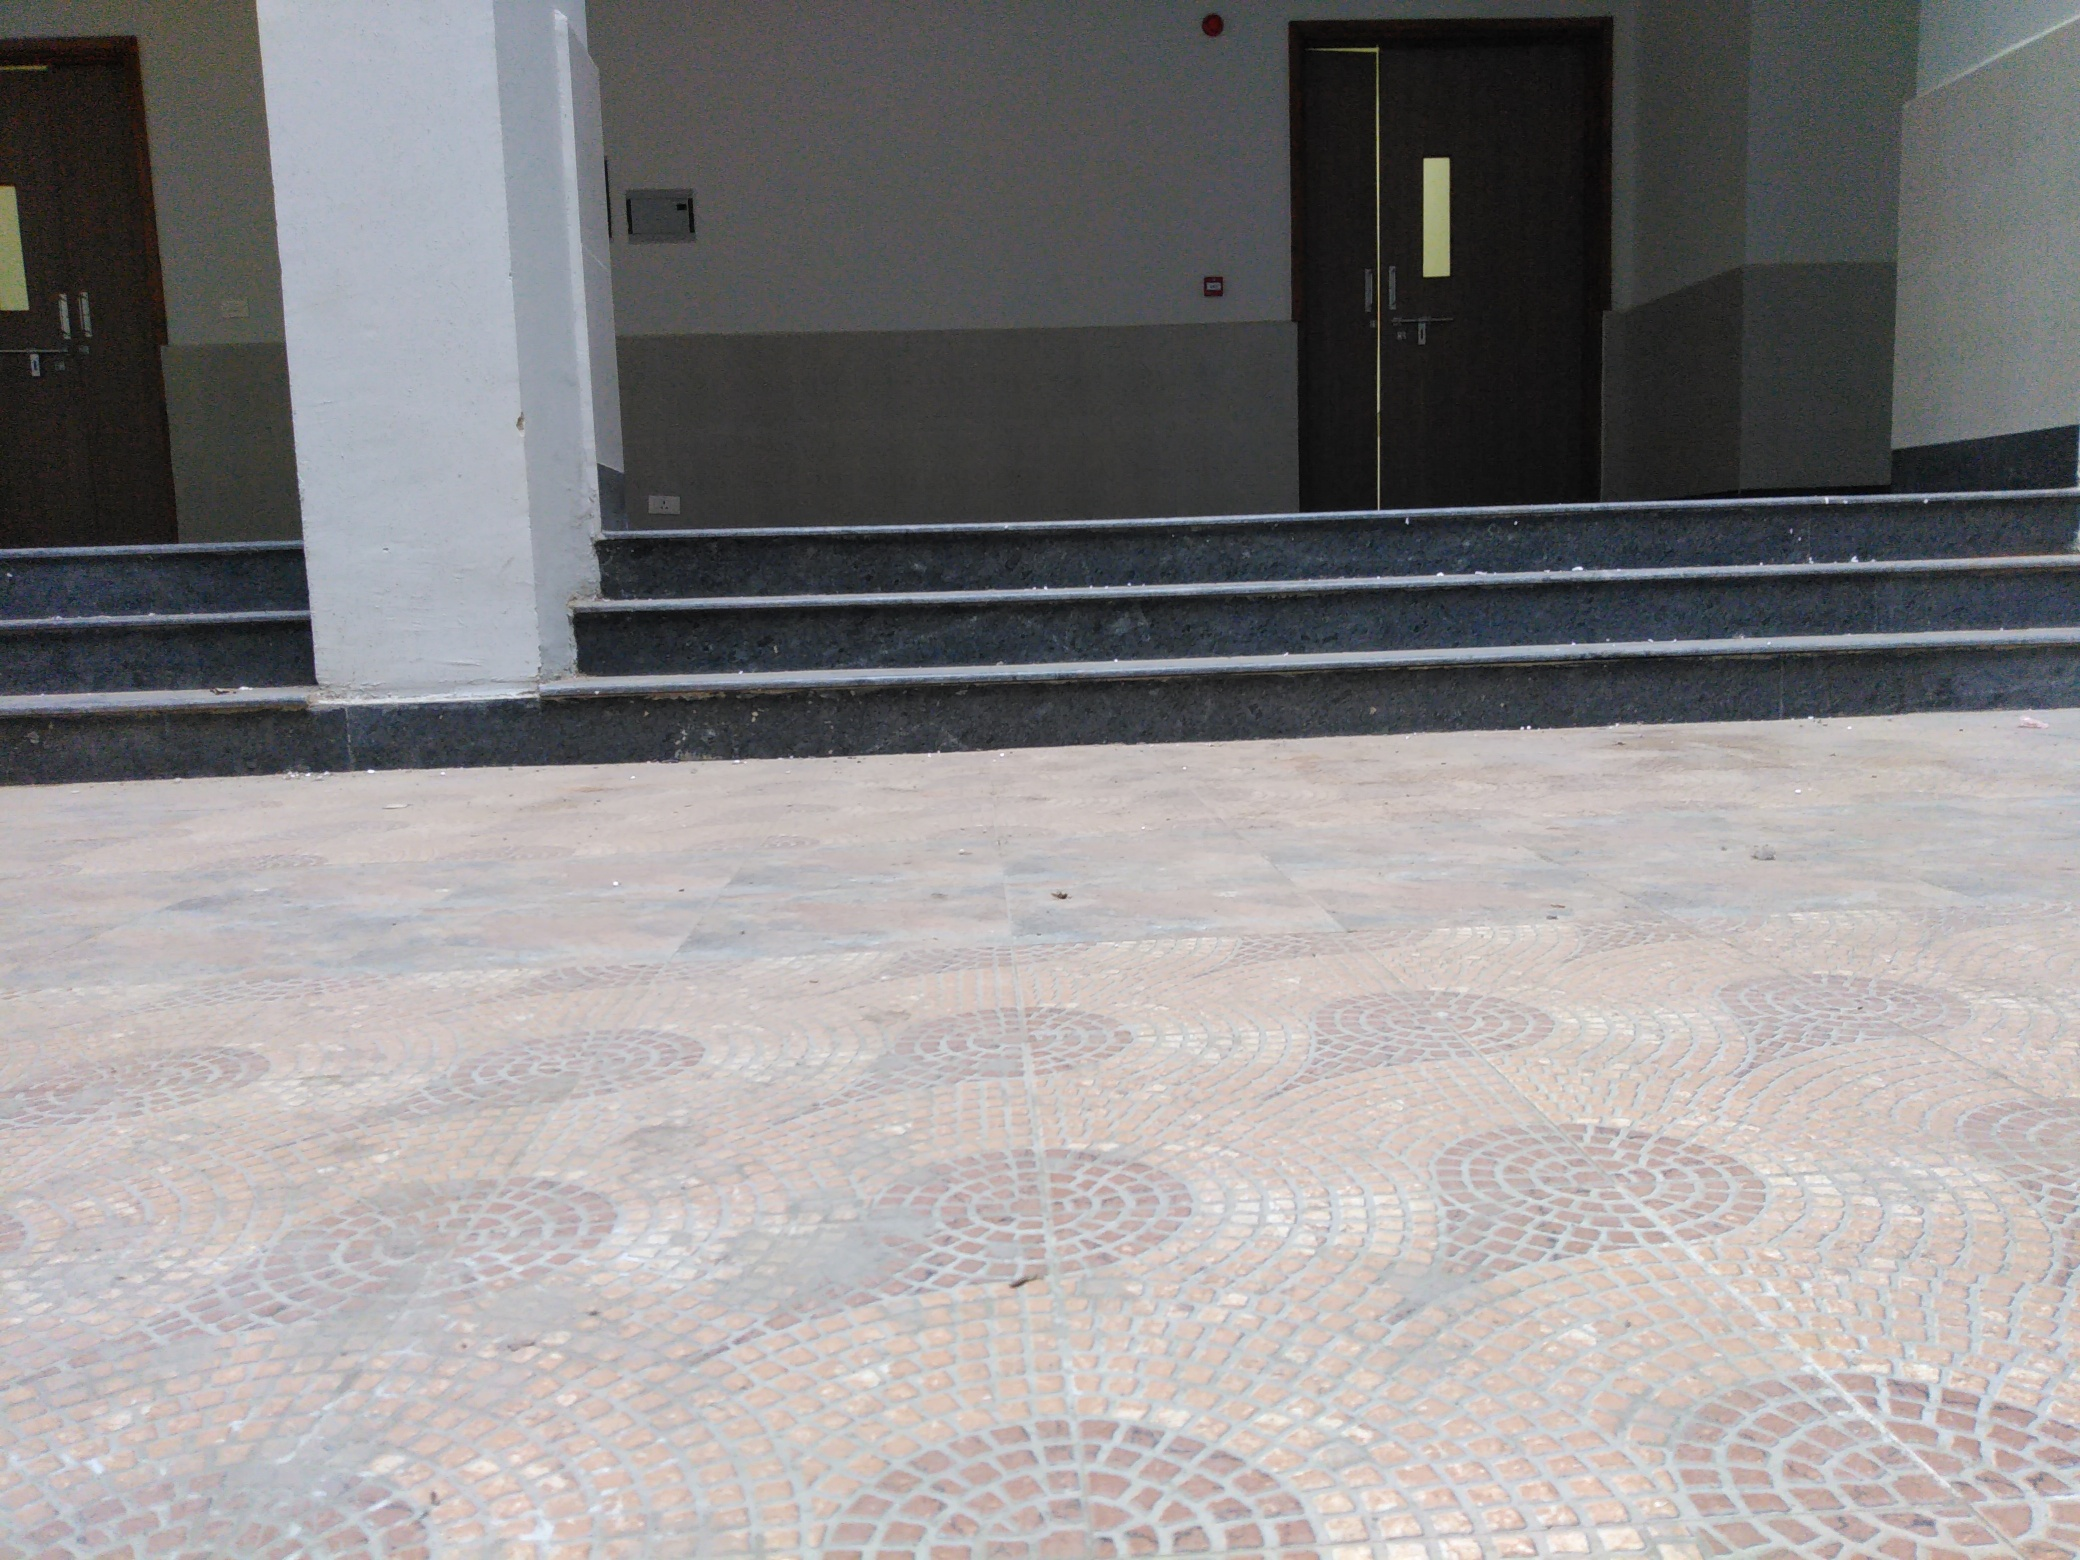stairs_up: (580, 505, 2080, 723), (2, 533, 287, 754)
